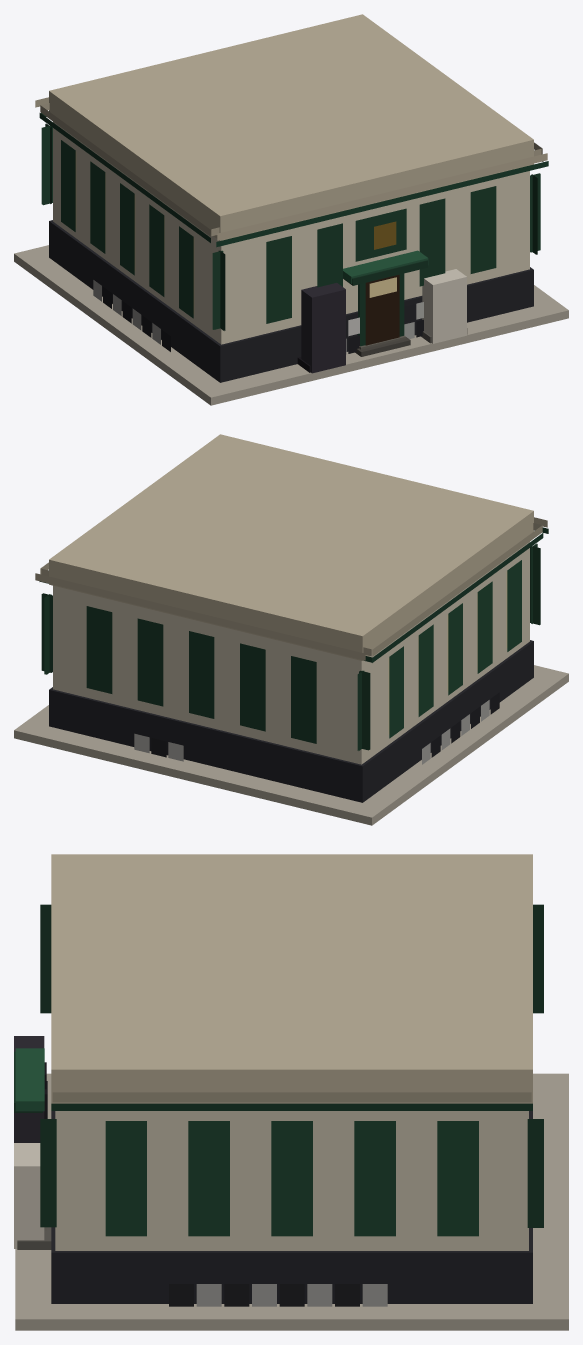
The model's file is FennecRiddlerSil.fbx.
3 views of the same model, one above another, from view 1: azimuth 30°, elevation 25°; view 2: azimuth 150°, elevation 25°; view 3: azimuth 270°, elevation 25° (orthographic). The views are drawn at different scales.
Visible parts, largest first — view 1: CS_S_All; view 2: CS_S_All; view 3: CS_S_All.
Boxes of the visible parts, x1,y1,x2,y2 form: CS_S_All: (14,14,568,405); CS_S_All: (14,434,568,825); CS_S_All: (14,854,568,1330).
Size of the model in its own units: 42.04 by 19.6 by 40.14.
